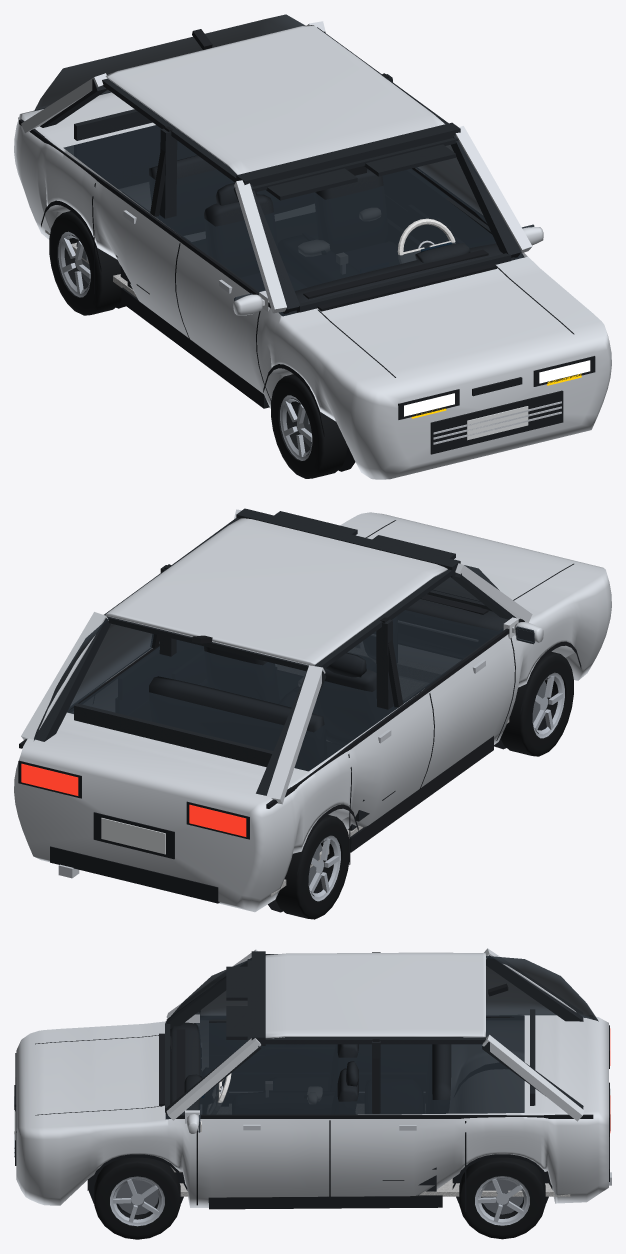
Rendered from car_gr9.glb.
3 renders of one model, top to bottom at view 1: azimuth 30°, elevation 25°; view 2: azimuth 150°, elevation 25°; view 3: azimuth 270°, elevation 25°, orthographic. The views are drawn at different scales.
Visible parts, largest first — view 1: Body, Glass, Cabin, Trim, Wheel_FR, Wheel_RR, Seats, HeadLamp, Chrome, PlateF, SteeringWheel; view 2: Body, Glass, Cabin, Trim, Wheel_FR, Wheel_RR, Seats, TailLamp, PlateR; view 3: Body, Glass, Cabin, Trim, Wheel_FL, Wheel_RL, Seats, Carpet.
Part boxes in pixels (x1=…): Body: x1=14, y1=21, x2=611, y2=479; Glass: x1=34, y1=14, x2=524, y2=316; Cabin: x1=40, y1=27, x2=521, y2=314; Trim: x1=18, y1=29, x2=595, y2=471; Wheel_FR: x1=271, y1=374, x2=347, y2=478; Wheel_RR: x1=49, y1=211, x2=121, y2=315; Seats: x1=149, y1=155, x2=383, y2=226; HeadLamp: x1=404, y1=360, x2=590, y2=416; Chrome: x1=123, y1=210, x2=561, y2=444; PlateF: x1=467, y1=406, x2=528, y2=440; SteeringWheel: x1=397, y1=218, x2=455, y2=255; Body: x1=14, y1=509, x2=611, y2=912; Glass: x1=34, y1=565, x2=503, y2=771; Cabin: x1=35, y1=508, x2=516, y2=830; Trim: x1=18, y1=520, x2=581, y2=912; Wheel_FR: x1=500, y1=651, x2=573, y2=756; Wheel_RR: x1=275, y1=815, x2=349, y2=919; Seats: x1=149, y1=646, x2=376, y2=732; TailLamp: x1=21, y1=763, x2=246, y2=836; PlateR: x1=101, y1=818, x2=165, y2=854; Body: x1=16, y1=948, x2=608, y2=1207; Glass: x1=165, y1=956, x2=598, y2=1119; Cabin: x1=165, y1=951, x2=583, y2=1191; Trim: x1=14, y1=952, x2=609, y2=1215; Wheel_FL: x1=94, y1=1157, x2=180, y2=1239; Wheel_RL: x1=459, y1=1157, x2=545, y2=1239; Seats: x1=337, y1=1044, x2=451, y2=1101; Carpet: x1=170, y1=1166, x2=570, y2=1196.
Bounding box in the file's own units: 2 × 1.57 × 4.14.
Materials: 17 (4 with a texture image).
